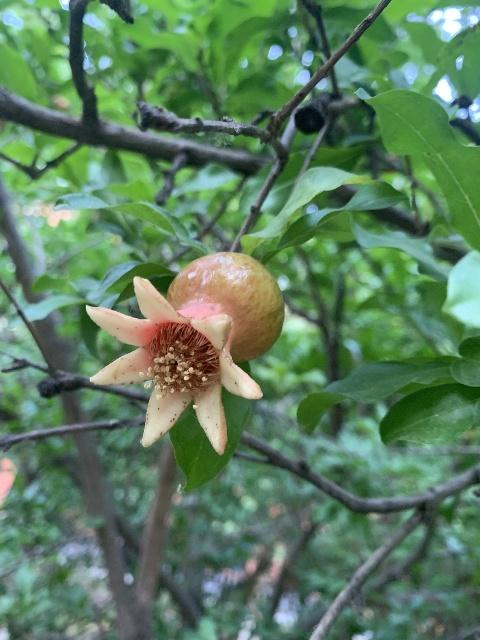early-fruit: (85, 251, 286, 454)
